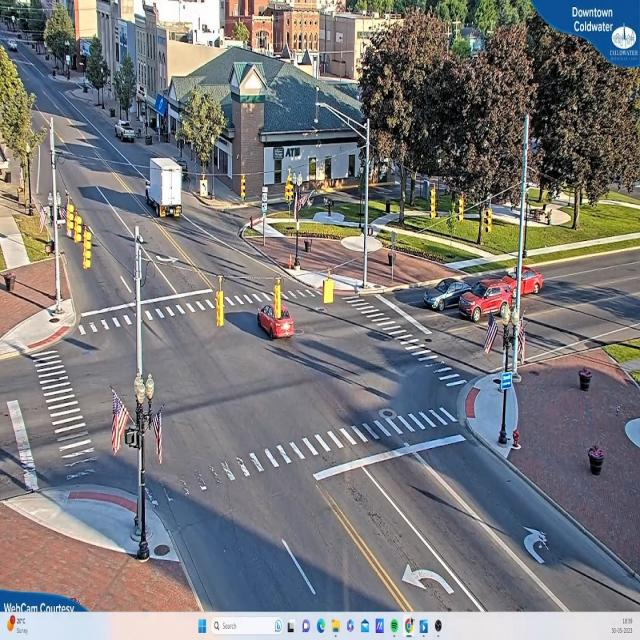car: (459, 280, 512, 323), (255, 302, 296, 340), (422, 278, 461, 316), (506, 264, 544, 300), (116, 123, 136, 143)
truck: (146, 156, 185, 226)
